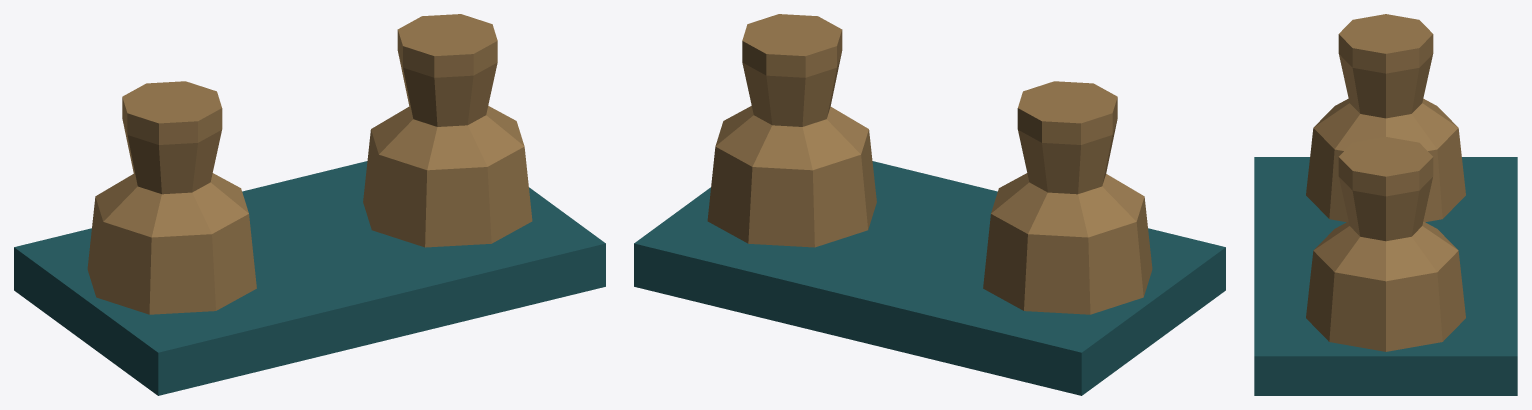
Rendered from VIC_L05_TRADE_COLLECTION_Roblox.fbx.
3 views of the same model, side by side, from view 1: azimuth 30°, elevation 25°; view 2: azimuth 150°, elevation 25°; view 3: azimuth 270°, elevation 25° (orthographic). The views are drawn at different scales.
Parts seen in each view (by area): view 1: VIC_L05_TRADE_COLLECTION__Teal, VIC_L05_TRADE_COLLECTION__Bronze; view 2: VIC_L05_TRADE_COLLECTION__Teal, VIC_L05_TRADE_COLLECTION__Bronze; view 3: VIC_L05_TRADE_COLLECTION__Bronze, VIC_L05_TRADE_COLLECTION__Teal.
Part boxes in pixels (x1,y1,x2,y2): VIC_L05_TRADE_COLLECTION__Teal: (14,161,605,395); VIC_L05_TRADE_COLLECTION__Bronze: (87,14,532,314); VIC_L05_TRADE_COLLECTION__Teal: (634,161,1225,395); VIC_L05_TRADE_COLLECTION__Bronze: (707,14,1152,314); VIC_L05_TRADE_COLLECTION__Bronze: (1306,14,1465,351); VIC_L05_TRADE_COLLECTION__Teal: (1254,157,1517,395).
Size of the model in its own units: 2.6 by 1.22 by 1.45.
